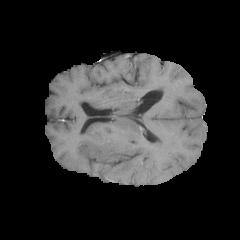glioma: (82, 137, 176, 174)
